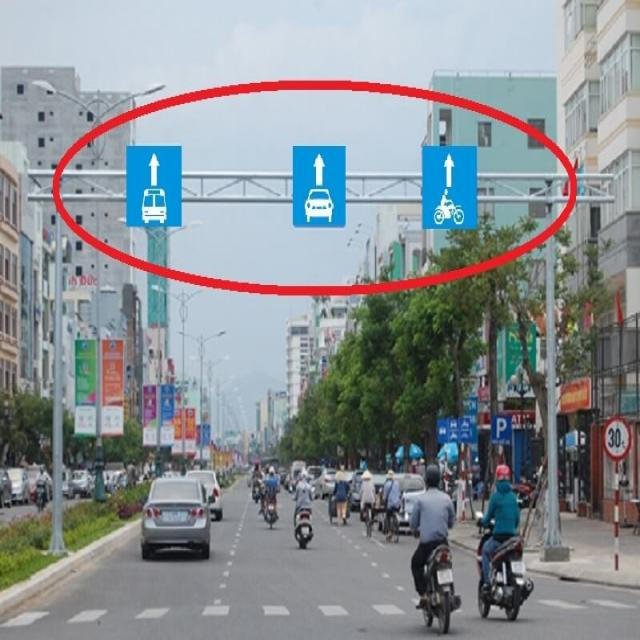Bicycle: (384, 473, 402, 544), (360, 476, 374, 539)
car: (145, 482, 214, 559), (186, 467, 222, 518)
motobyte: (402, 468, 457, 638), (484, 467, 528, 625), (294, 458, 313, 552), (264, 471, 276, 529)
non-motorized vehicle: (329, 475, 351, 531)
